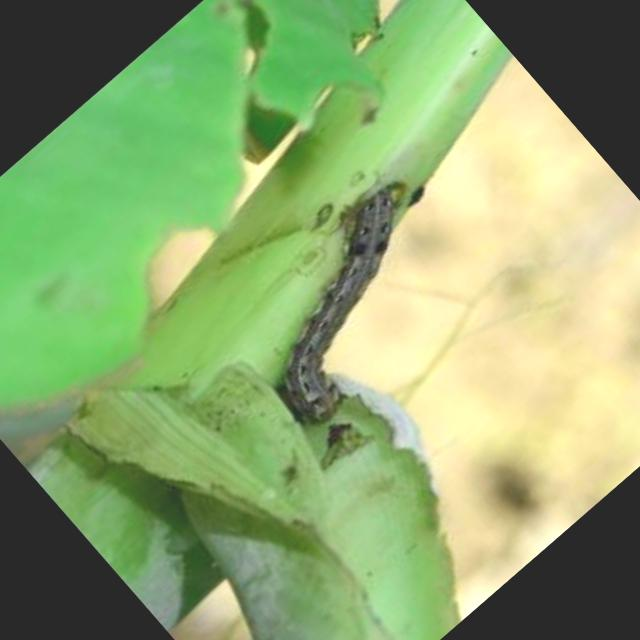Tobacco cutworm: (137, 80, 607, 557)
